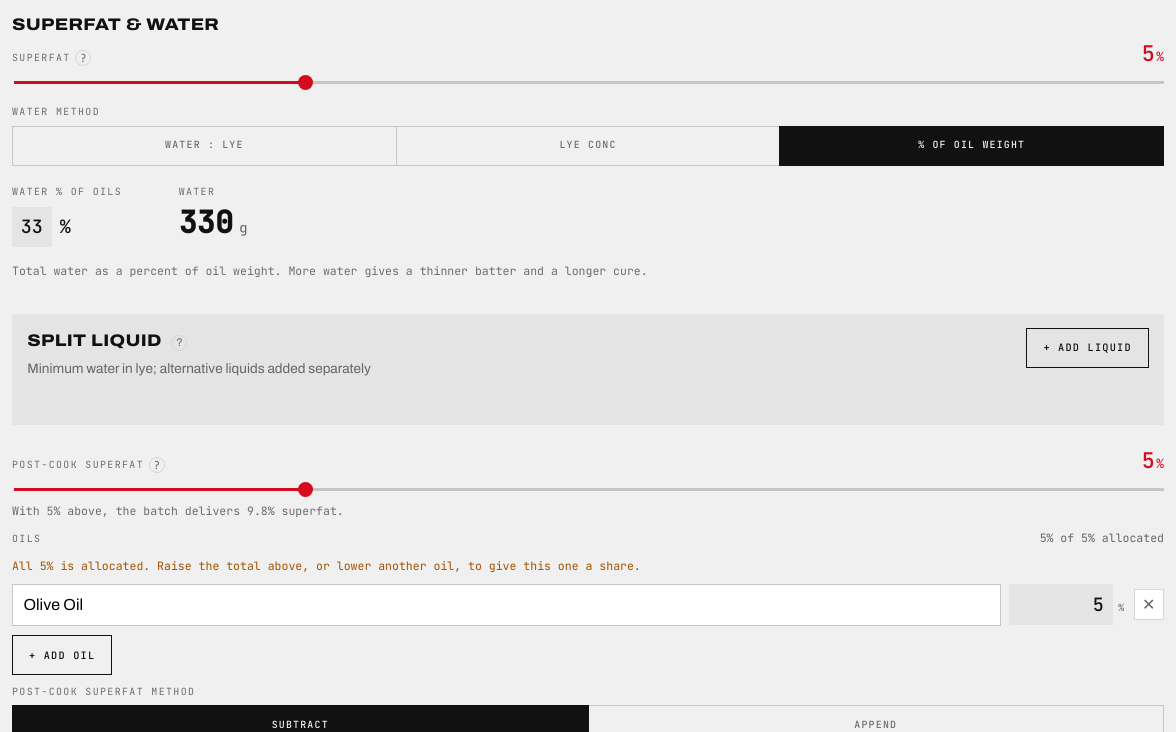
Scenario: typing 200 into the post-cook superfat total clamps to 100, not left uncapped
Replace the text in the number field named "Post-cook superfat total %" with "200" at (1120, 460), box top-left (1084, 444), bottom-right (1155, 476)
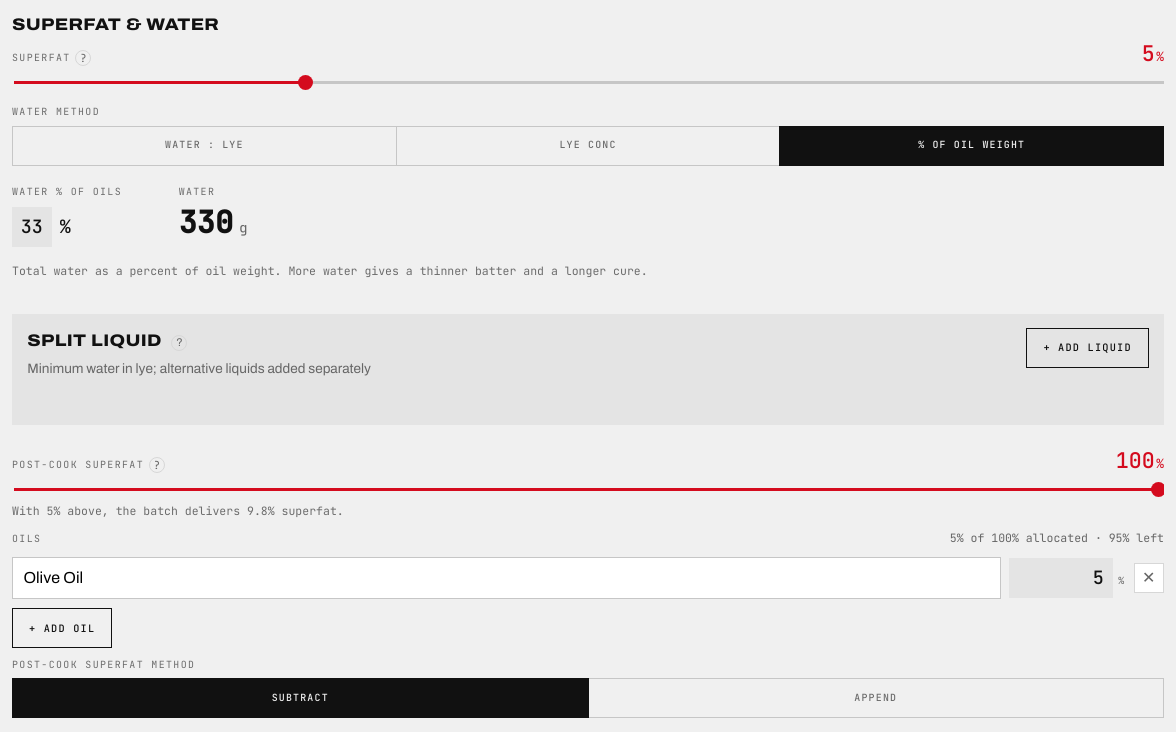
Expected: the number field named "Post-cook superfat total %" holds "100", top-left (1084, 444), bottom-right (1155, 476)
